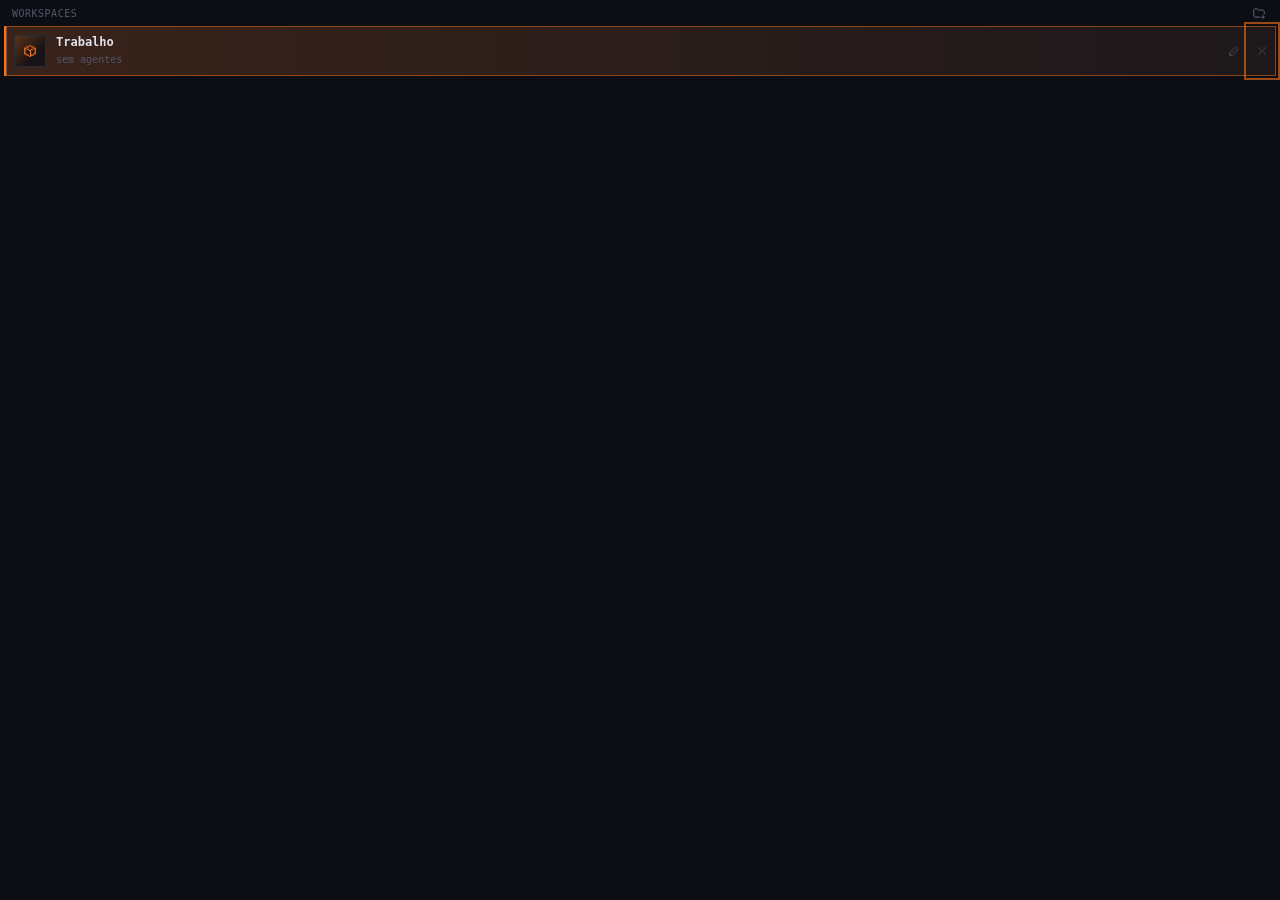
confirmação do workspace › clicar no X aguarda confirmação; Cancelar mantém o workspace e devolve o foco
The width and height of the screenshot is (1280, 900).
Click the button named "Fechar workspace Trabalho".
click(1262, 51)  # box top-left (1248, 26), bottom-right (1276, 76)
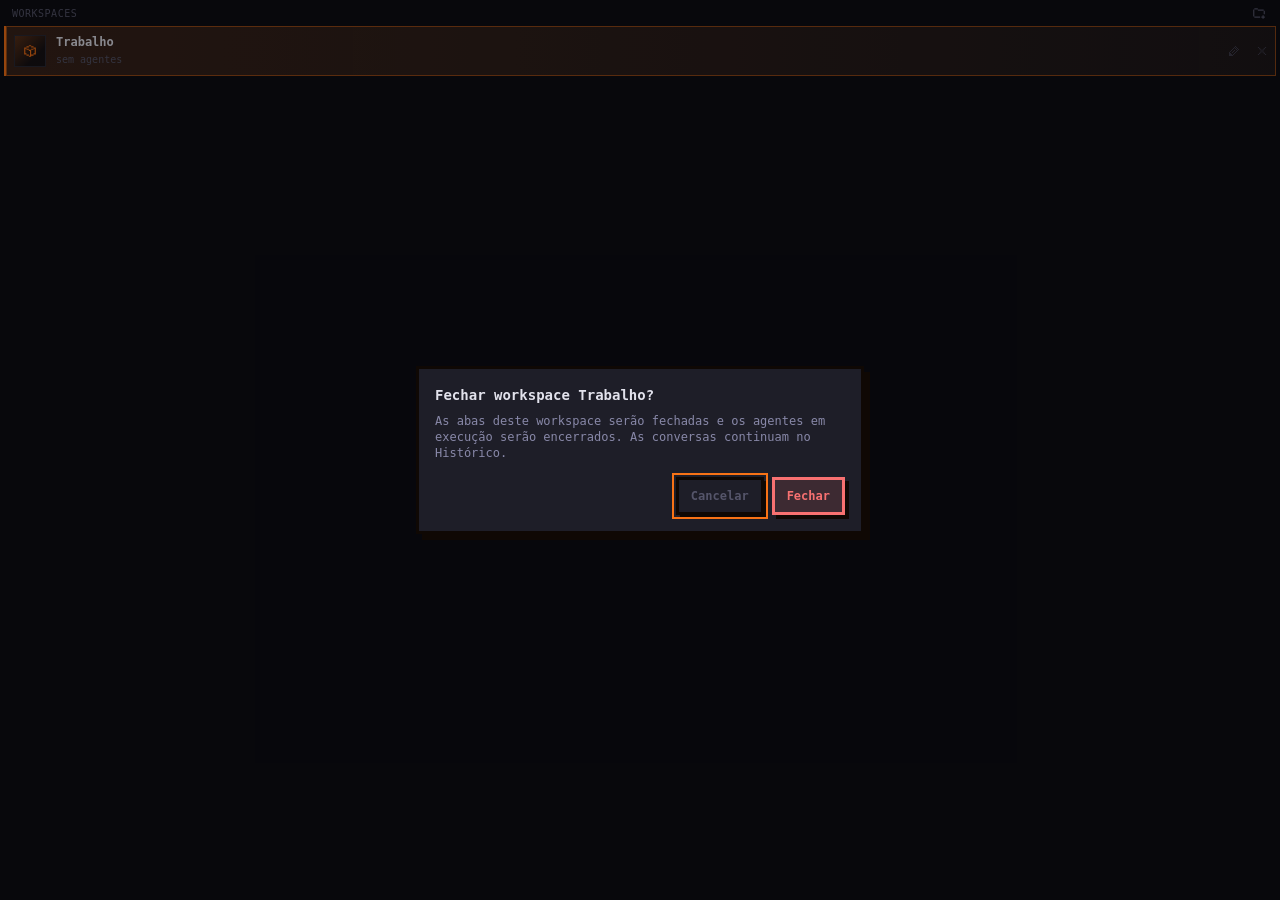
Click the button "Cancelar".
click(720, 496)  # box top-left (676, 477), bottom-right (764, 515)
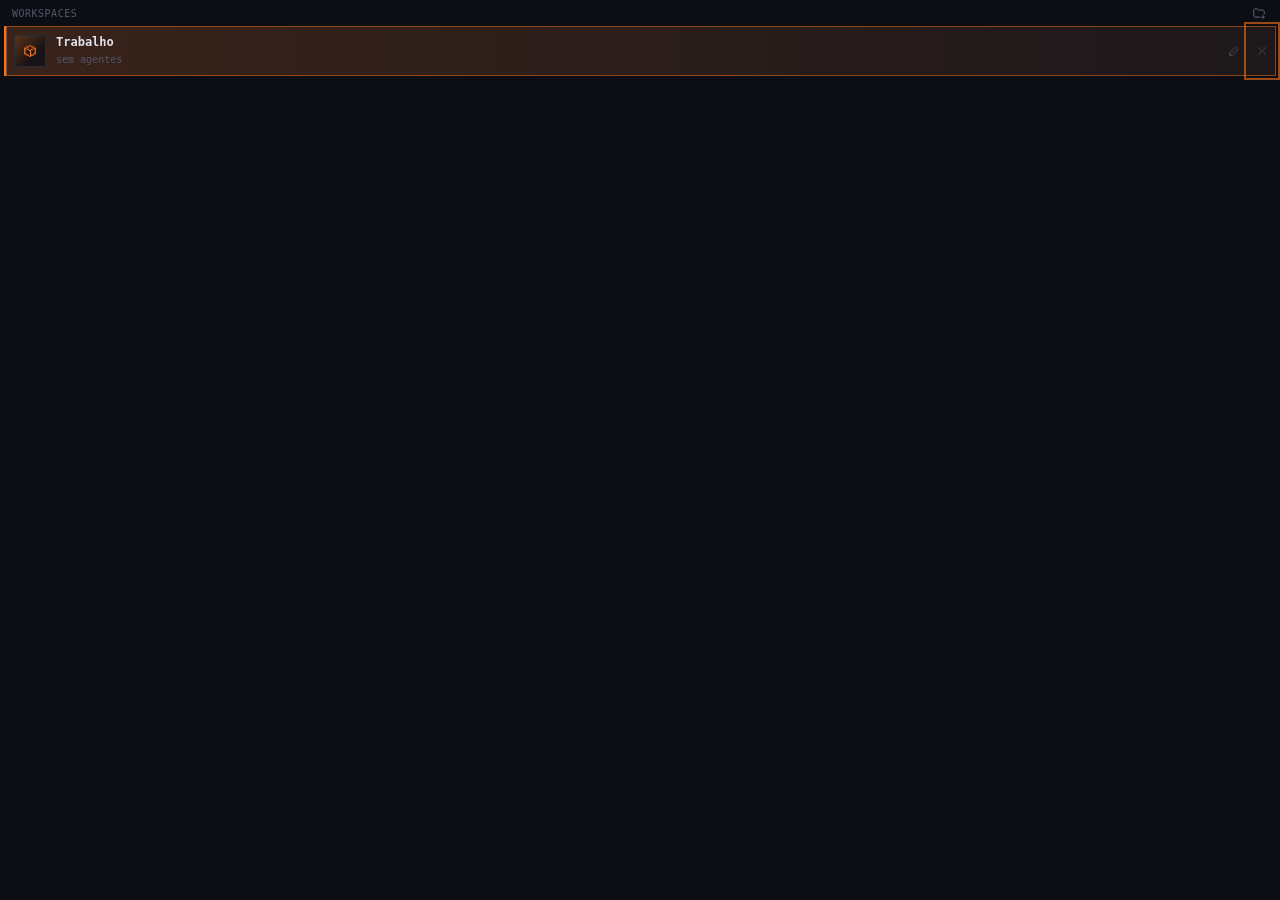
Expected: the dialog is gone
